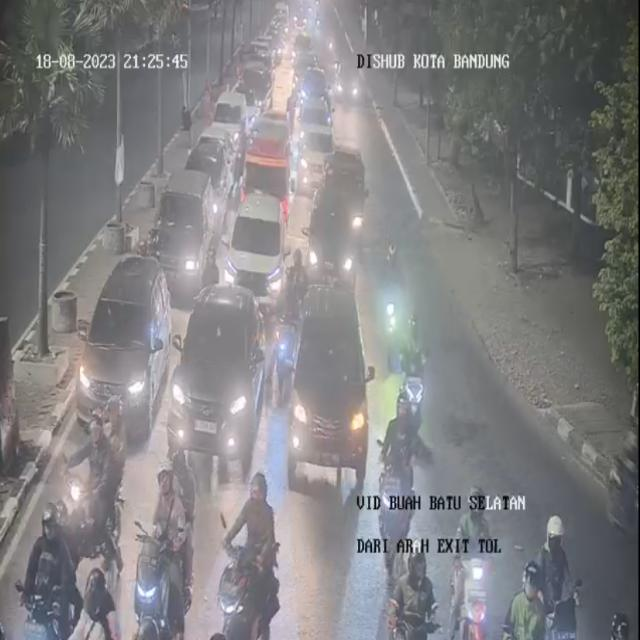cars: (167, 281, 269, 468), (289, 268, 375, 487), (75, 255, 167, 433), (227, 194, 289, 318), (156, 167, 210, 305), (309, 164, 362, 296), (188, 134, 230, 226), (298, 97, 334, 174), (210, 93, 246, 150)
motorcycle: (216, 472, 288, 640), (71, 384, 125, 556), (144, 463, 194, 637), (20, 497, 66, 638), (377, 382, 421, 524), (451, 490, 492, 636), (539, 506, 583, 638), (385, 529, 437, 640), (374, 232, 412, 373), (272, 272, 300, 398), (78, 548, 114, 638), (605, 607, 634, 640)
truck: (243, 111, 292, 222)
